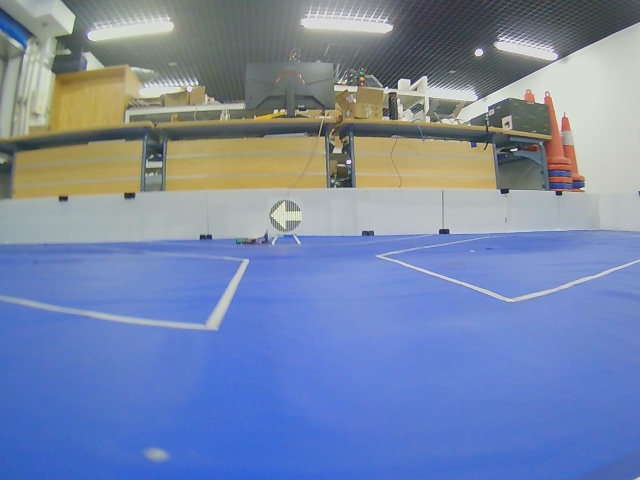left_yellow: (269, 200, 302, 232)
